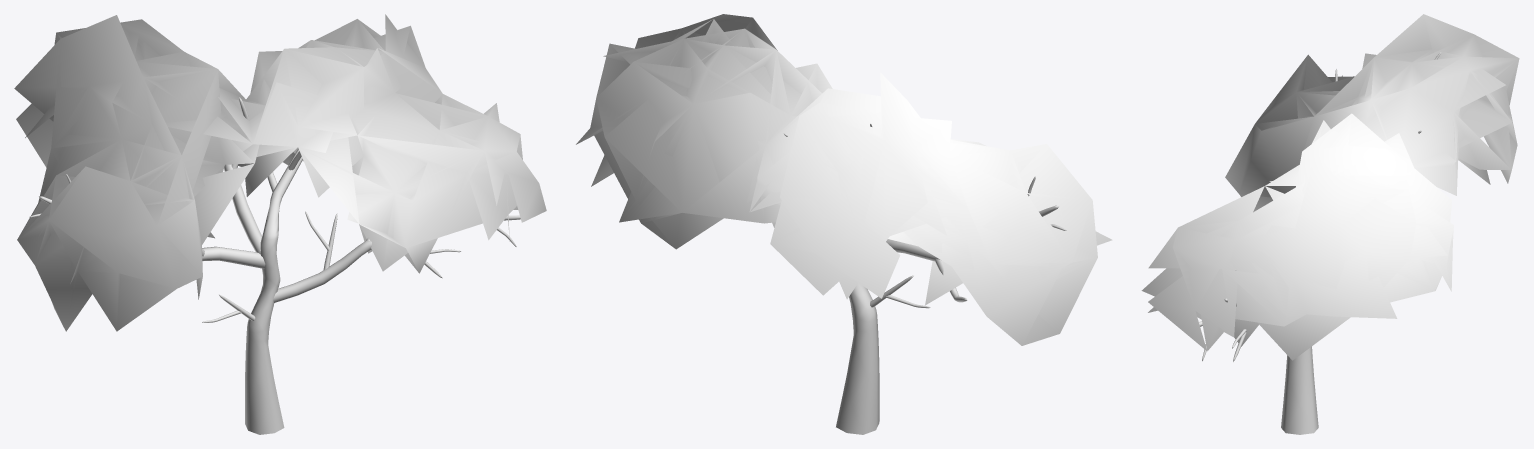
The model's file is MapleTree_3.glb.
The picture shows the model from 3 angles, left to right: view 1: azimuth 30°, elevation 25°; view 2: azimuth 150°, elevation 25°; view 3: azimuth 270°, elevation 25°; orthographic projection. The views are drawn at different scales.
Bounding box in the file's own units: 8.67 × 6.99 × 6.39.
Materials: 2 (1 with a texture image).
